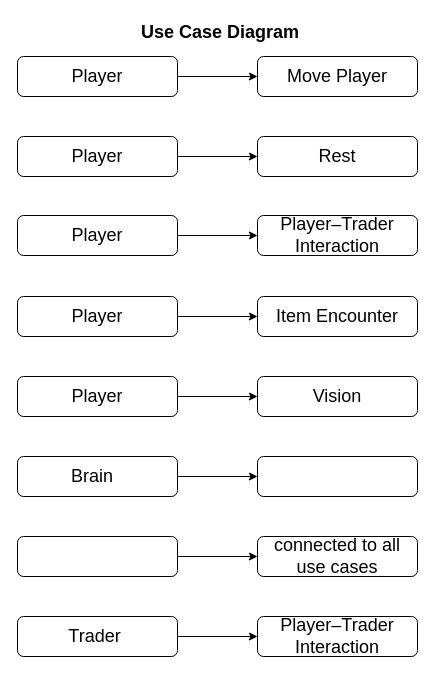
Image size: 435x675. Some labels were removed from this diagram. The centre of each missing label's shape, as x and y in pixels:
"Make Decision" goes at (x=337, y=476).
"System" goes at (x=97, y=556).
